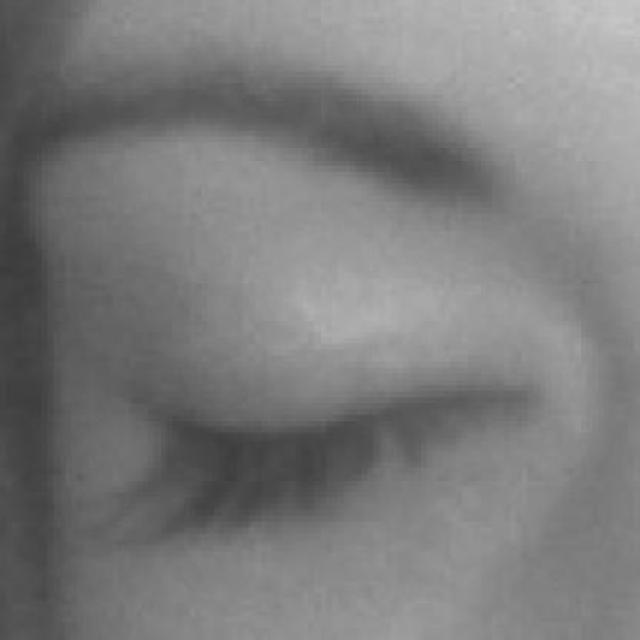drowsy: (118, 249, 534, 634)
